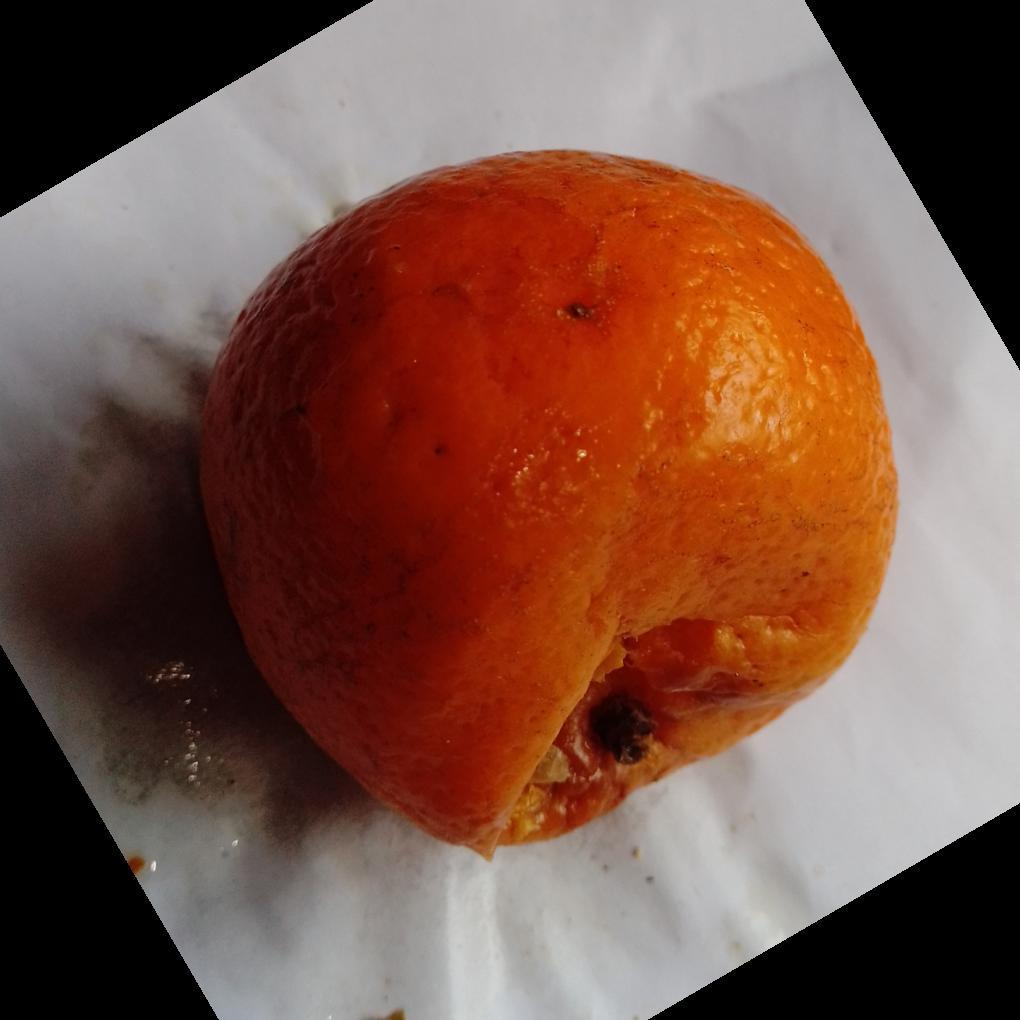FreshOrange: (193, 149, 901, 868)
